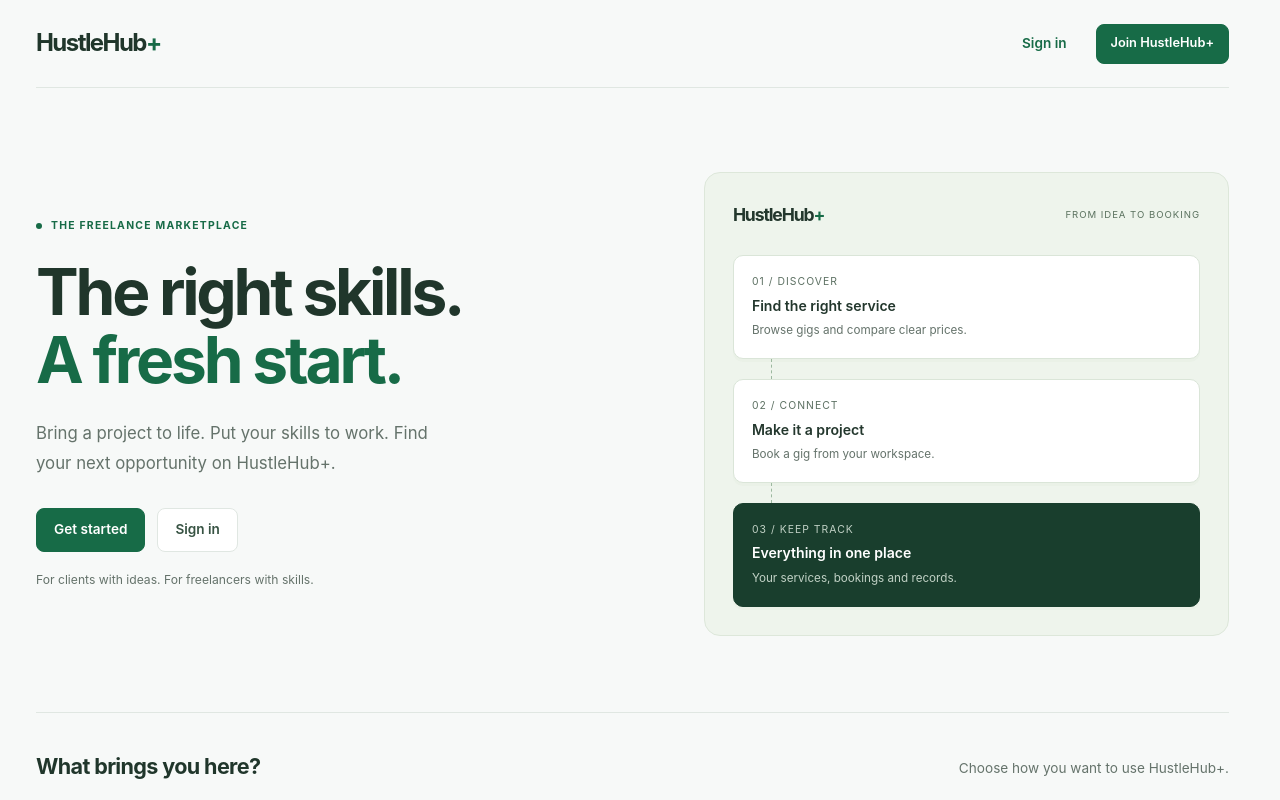
shows loading instead of empty records while the dashboard is being fetched
Click the 1st button "Sign in" at x=1044, y=44, box [1005,22,1084,66]
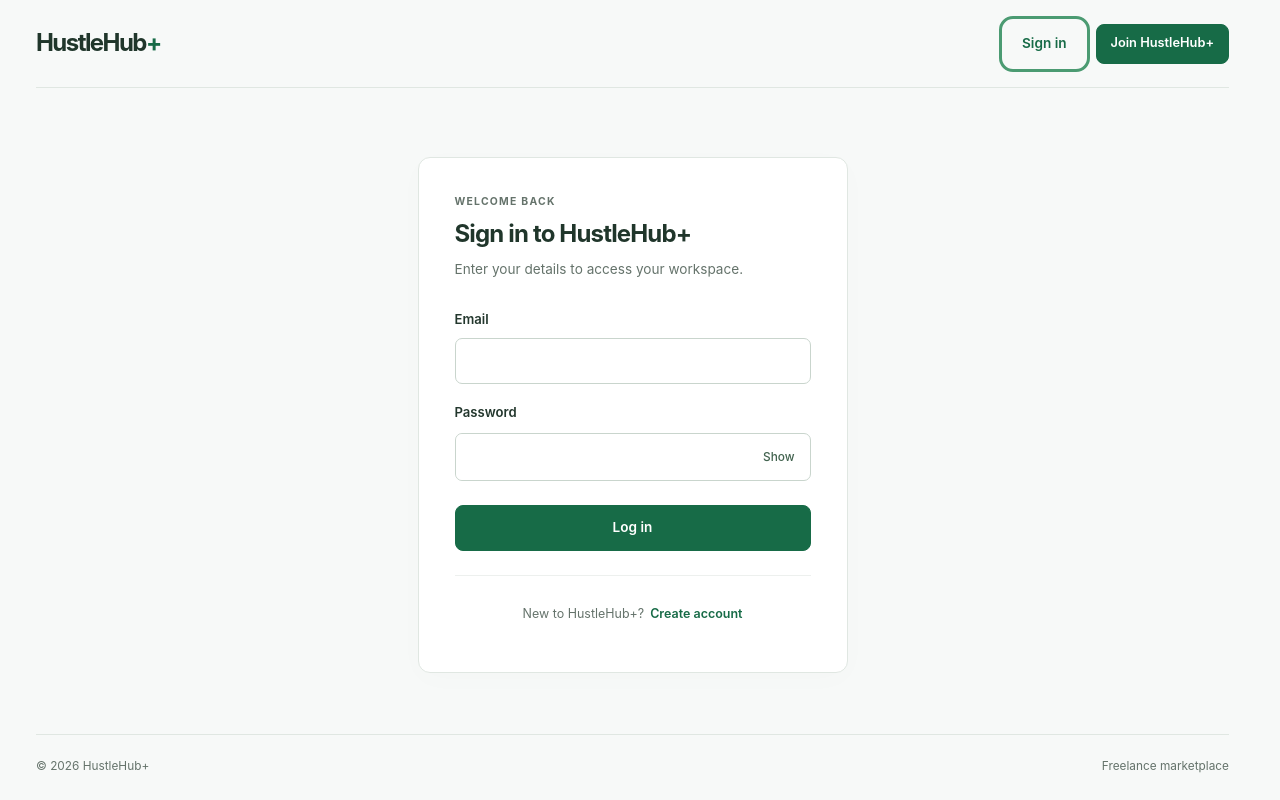
Type "client@example.com" into the field labelled "Email" at x=632, y=361, box [454,338,810,384]
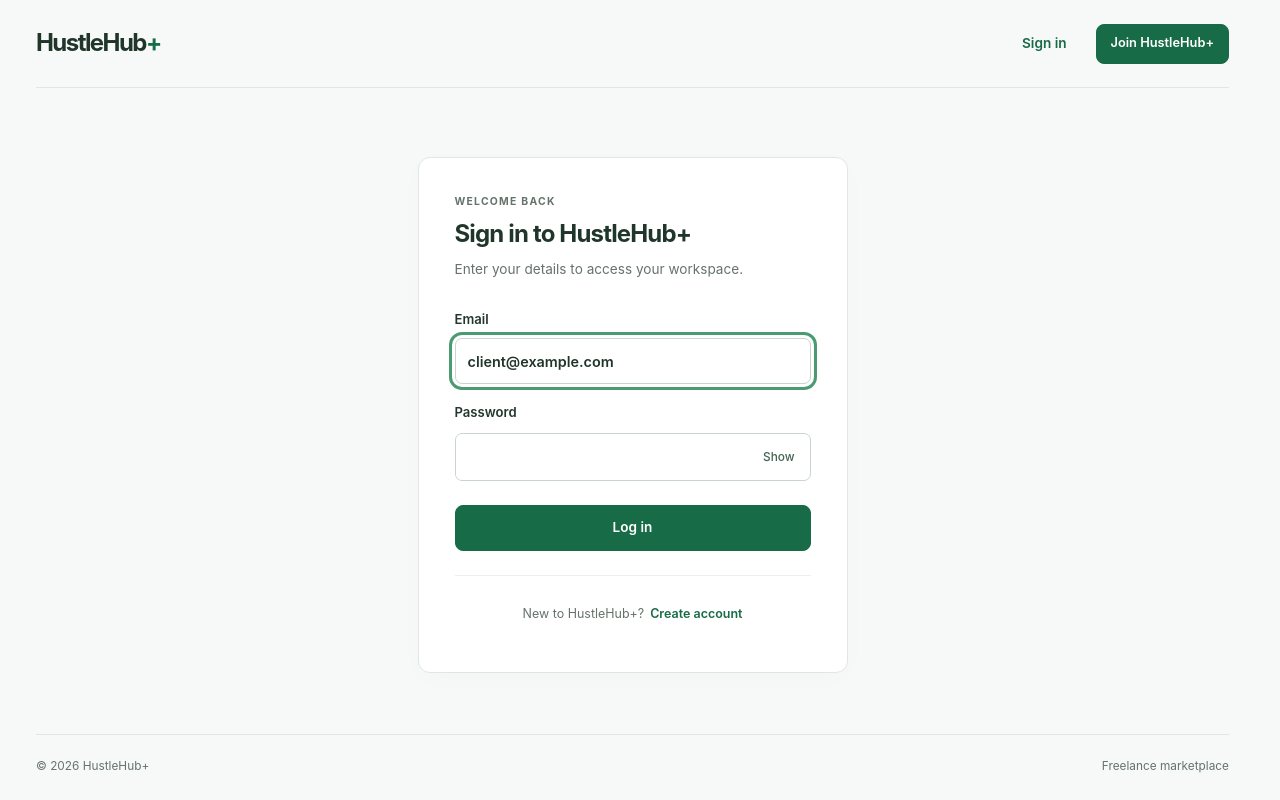
Type "StrongPass!123" into the password field labelled "Password" at x=603, y=457, box [456,434,751,480]
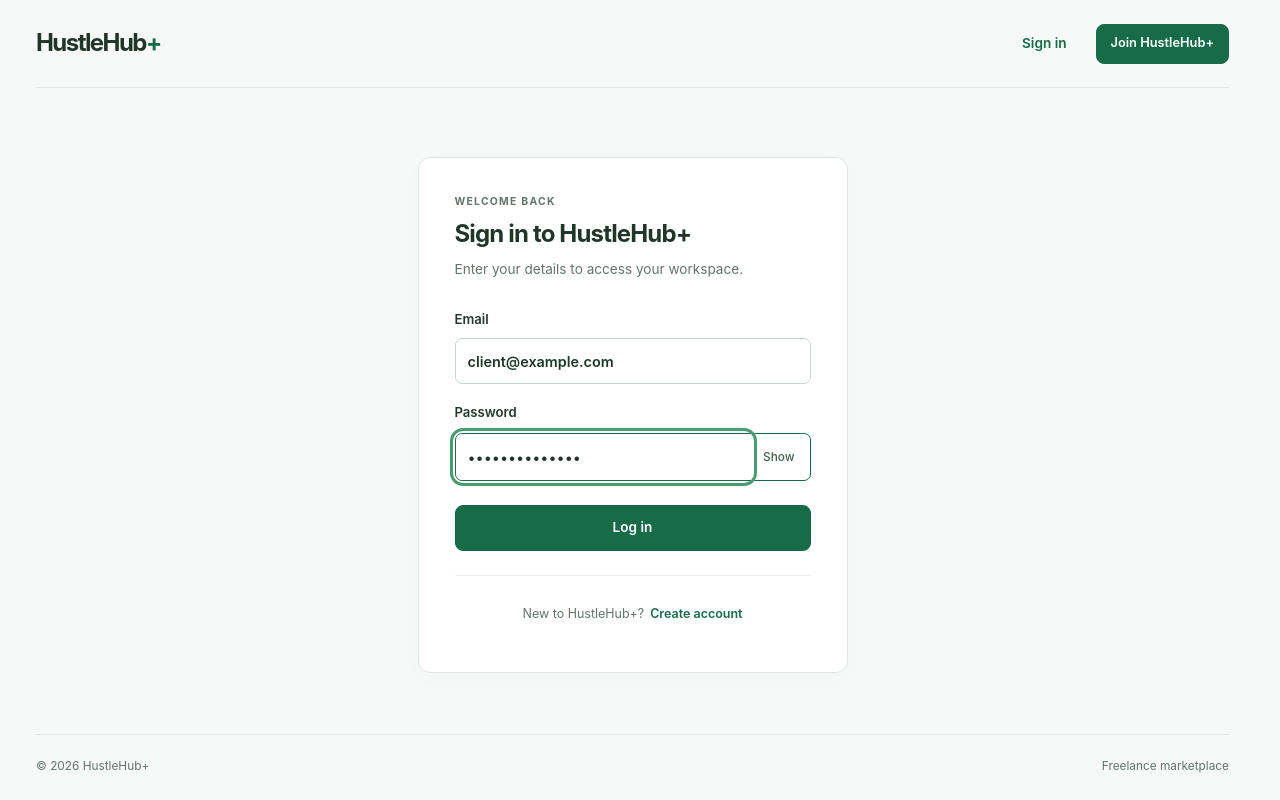
Click the button "Log in" at x=632, y=528, box [454,505,810,551]
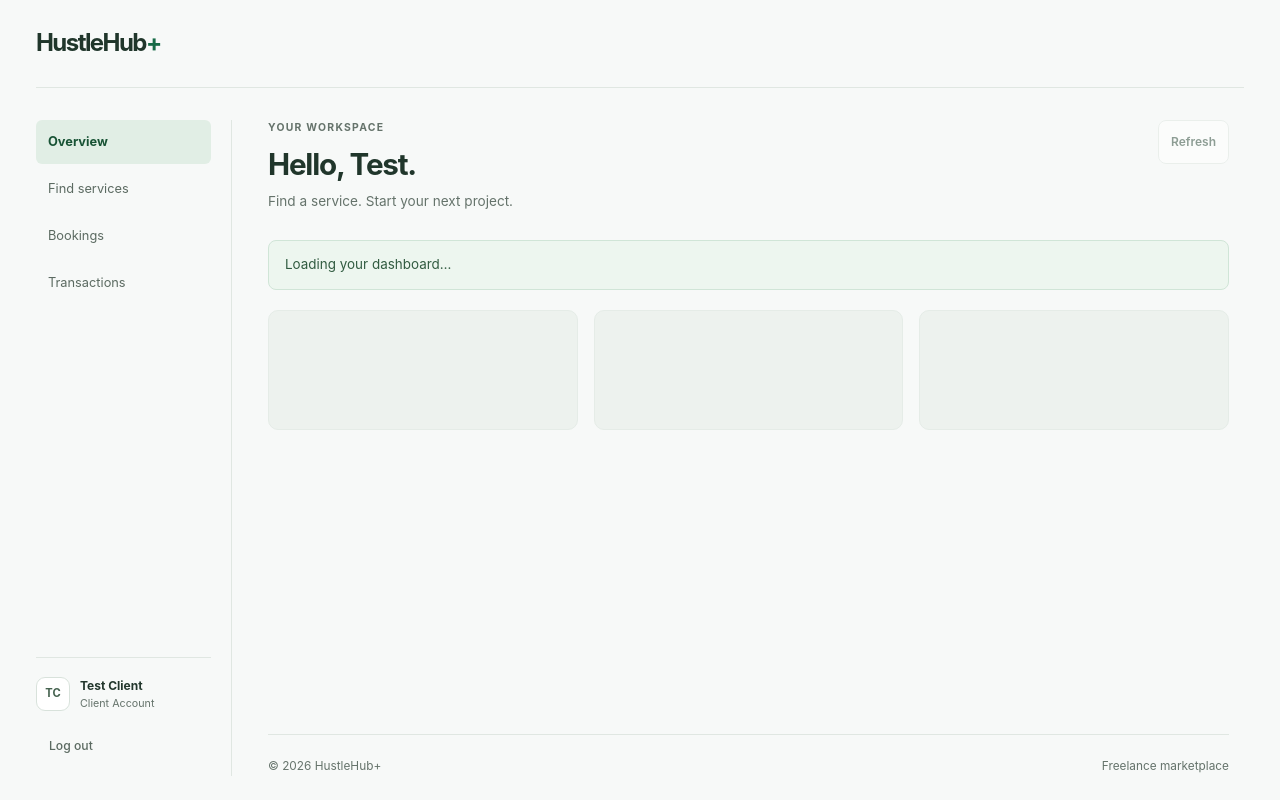
Expected: the message reads "Loading your dashboard…", [285,256,451,272]
Expected: the button "Refresh" is disabled, [1158,120,1229,164]
